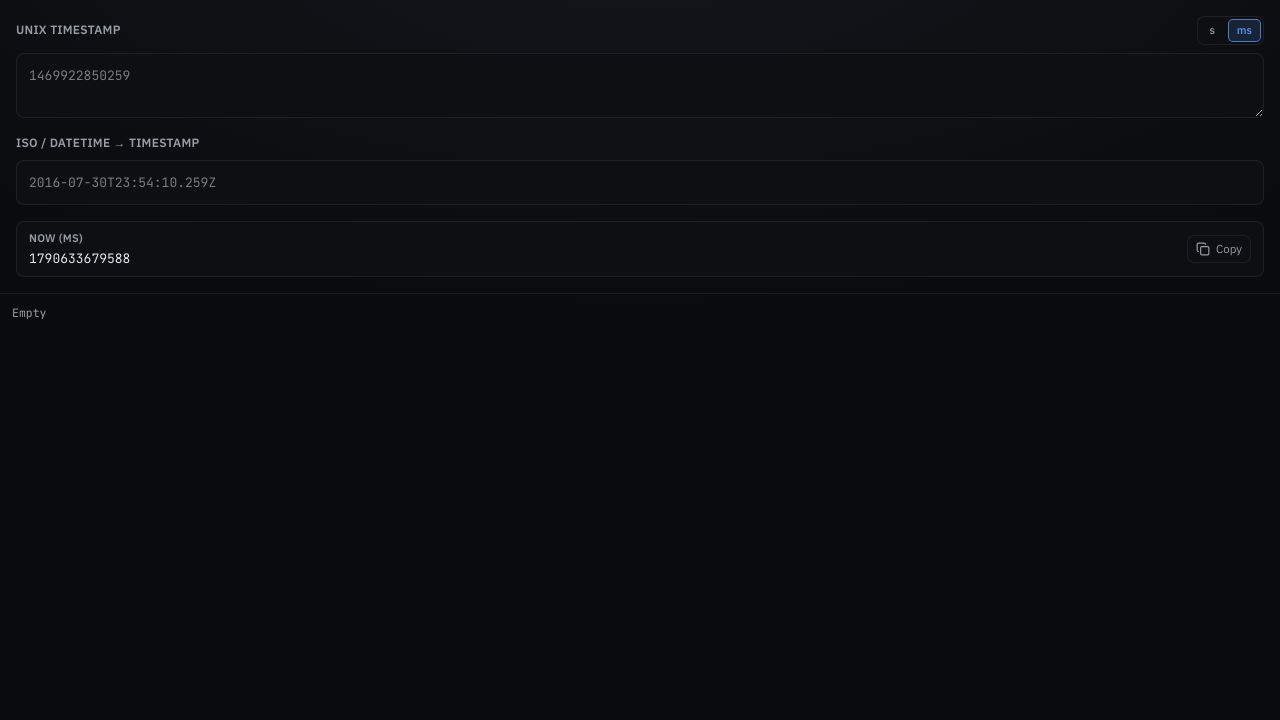
Test case: UnixTimeTool › the unit override toggle reflects the active unit and forcing the other unit re-renders the datetime
The width and height of the screenshot is (1280, 720).
In the text box labelled "Unix Timestamp": (640, 85) [16,52,1264,118], type "1469922850"
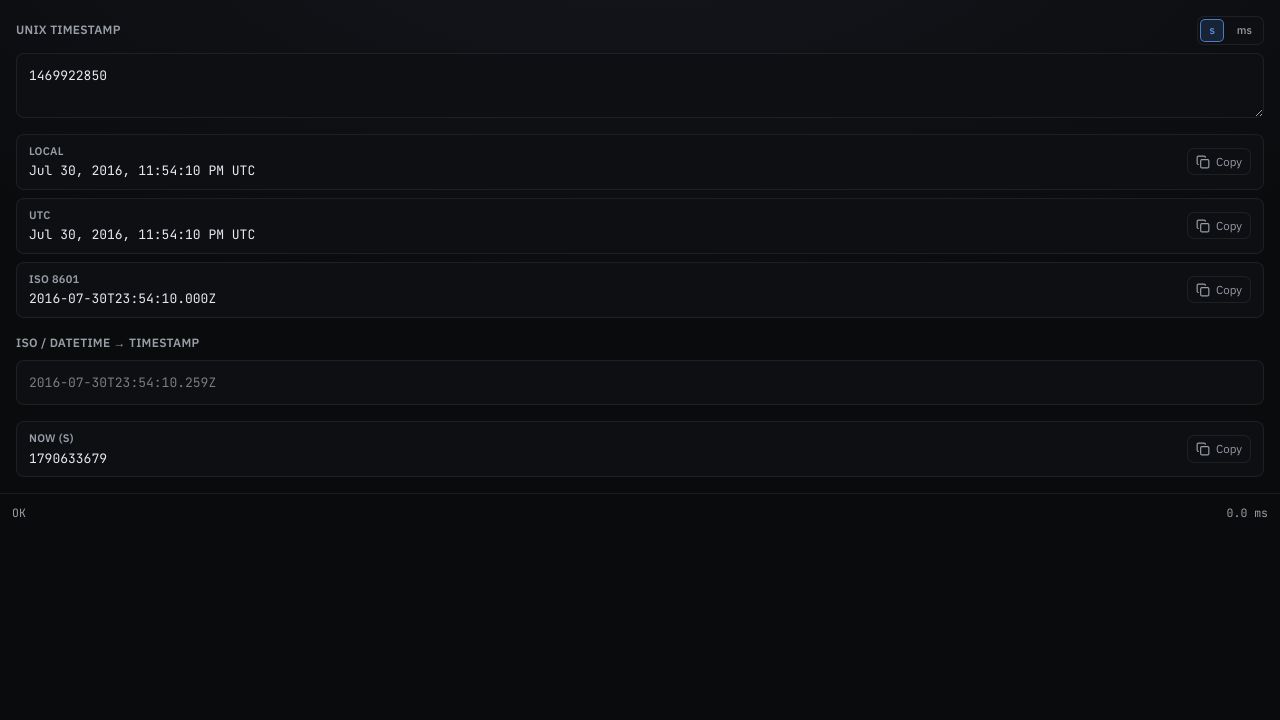
Check: the button "s" is shown, box [1200,19,1224,42]
Check: the text with id "unix-time-iso" reads "2016-07-30T23:54:10.000Z", box [29,290,216,307]
Click the button "ms": click(1244, 30) [1228,19,1261,42]
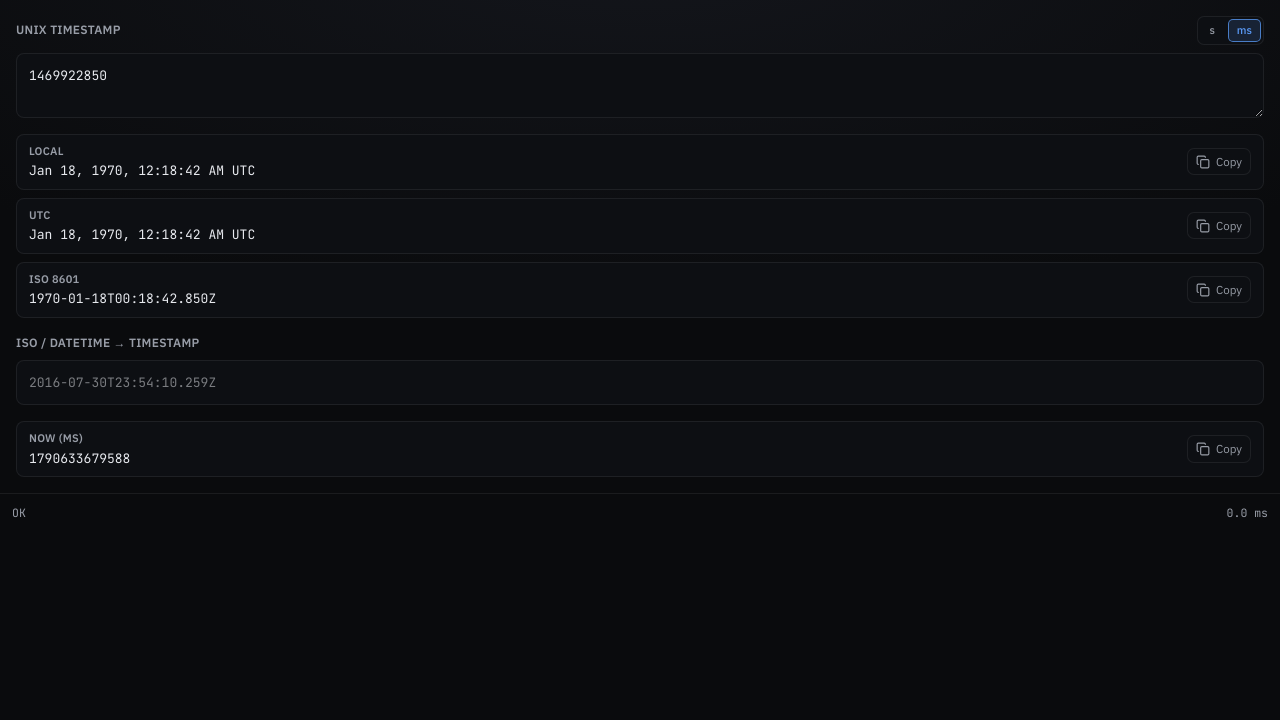
Check: the text with id "unix-time-iso" no longer shows "2016-07-30T23:54:10.000Z"
Check: the text with id "unix-time-iso" shows "1970-01-18", box [29,290,216,307]
